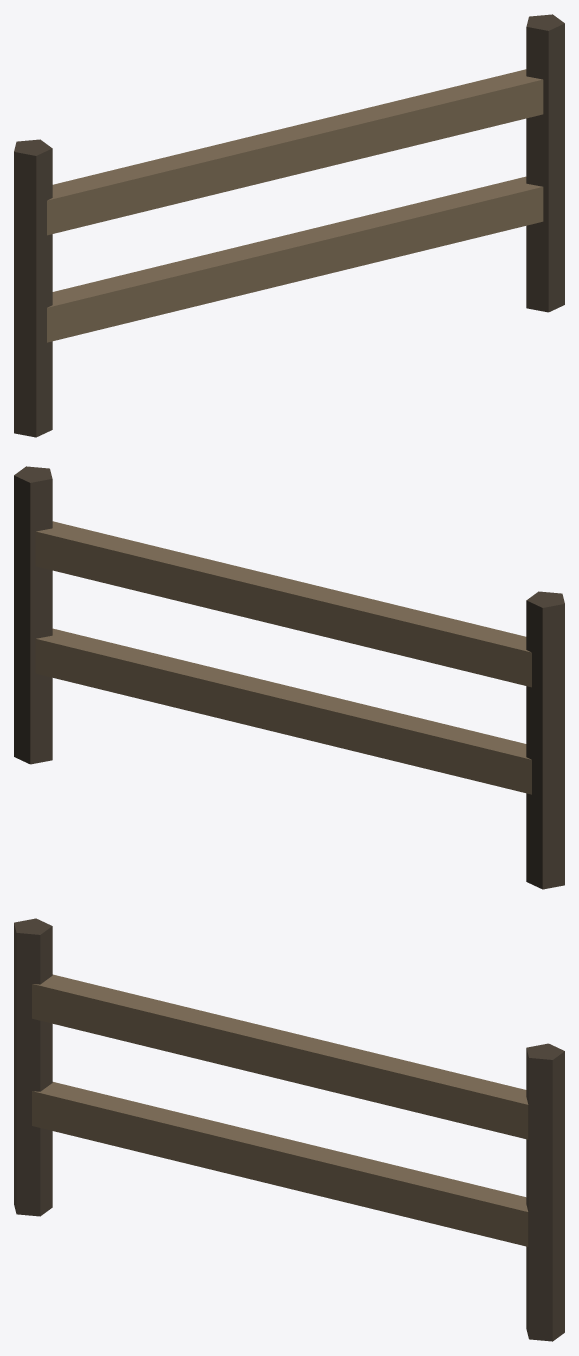
Rendered from ENV_Module_07_Fence.glb.
The picture shows the model from 3 angles, top to bottom: view 1: azimuth 30°, elevation 25°; view 2: azimuth 150°, elevation 25°; view 3: azimuth 330°, elevation 25°; orthographic projection.
Visible parts, largest first — view 1: ENV_Module_07_Fence; view 2: ENV_Module_07_Fence; view 3: ENV_Module_07_Fence.
Part boxes in pixels (x1,y1,x2,y2): ENV_Module_07_Fence: (14, 14, 564, 437); ENV_Module_07_Fence: (14, 466, 564, 889); ENV_Module_07_Fence: (14, 918, 564, 1341).
Size of the model in its own units: 2.13 by 1.05 by 0.1331.
